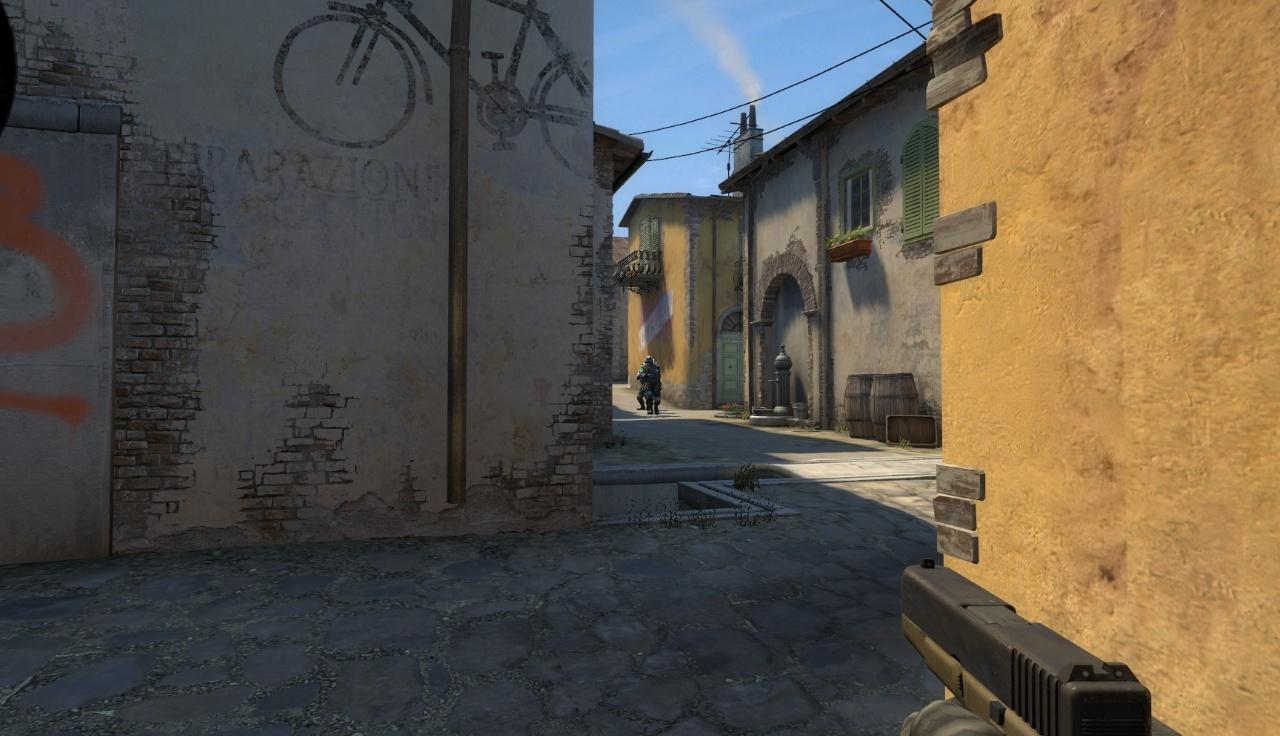ct: (642, 356, 661, 415), (637, 365, 646, 411)
cthead: (645, 356, 652, 365)
pistol: (899, 556, 1205, 736)
